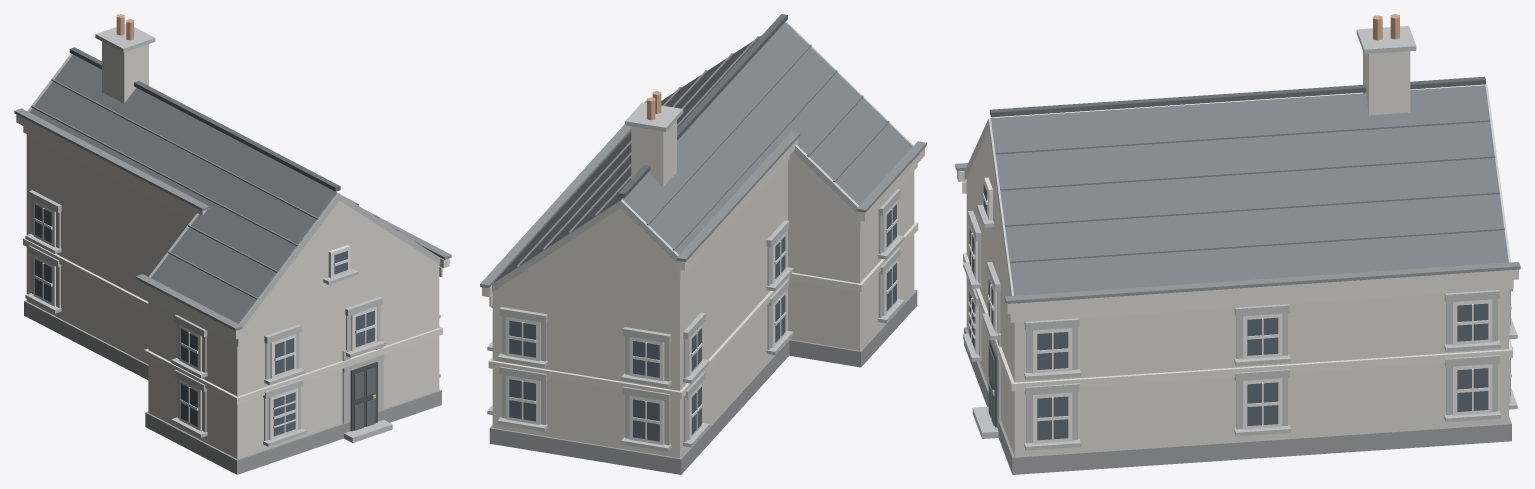
The picture shows the model from 3 angles, left to right: view 1: azimuth 30°, elevation 25°; view 2: azimuth 150°, elevation 25°; view 3: azimuth 270°, elevation 25°; orthographic projection. The views are drawn at different scales.
Visible parts, largest first — view 1: harl_grey, slate, stone_band, string, plinth, frame, lead, slate_lt, chim_render, slate_dk, door_dark_p, door_dark (+7 smaller); view 2: harl_grey, slate, stone_band, plinth, string, frame, lead, slate_lt, chim_render, slate_dk, window_glass_015, window_glass_013 (+2 smaller); view 3: slate, harl_grey, stone_band, string, plinth, frame, slate_lt, lead, slate_dk, chim_render, window_glass_011, window_glass_007 (+4 smaller).
Part boxes in pixels (box(x1,y1,x2,y2)): harl_grey: box(26, 134, 439, 458); slate: box(29, 54, 337, 323); stone_band: box(25, 24, 440, 446); string: box(16, 114, 449, 404); plinth: box(24, 300, 441, 474); frame: box(33, 200, 376, 440); lead: box(14, 108, 451, 331); slate_lt: box(31, 79, 419, 299); chim_render: box(102, 41, 148, 103); slate_dk: box(69, 47, 340, 191); door_dark_p: box(354, 368, 375, 430); door_dark: box(350, 361, 377, 431); harl_grey: box(492, 151, 914, 458); slate: box(493, 22, 912, 283); stone_band: box(487, 21, 913, 451); plinth: box(489, 289, 917, 474); string: box(482, 138, 924, 399); frame: box(506, 200, 897, 445); lead: box(480, 100, 926, 287); slate_lt: box(516, 36, 889, 267); chim_render: box(631, 120, 676, 186); slate_dk: box(618, 14, 787, 198); window_glass_015: box(633, 399, 659, 441); window_glass_013: box(509, 379, 535, 421); slate: box(990, 85, 1508, 295); harl_grey: box(966, 131, 1508, 456); stone_band: box(963, 26, 1517, 450); string: box(957, 171, 1518, 391); plinth: box(964, 327, 1511, 474); frame: box(968, 177, 1511, 443); slate_lt: box(995, 119, 1504, 263); lead: box(955, 163, 1520, 303); slate_dk: box(990, 76, 1485, 117); chim_render: box(1363, 51, 1410, 115); window_glass_011: box(1457, 368, 1488, 411); window_glass_007: box(1037, 396, 1068, 440).
Size of the model in its own units: 8.45 by 9.64 by 13.49.
